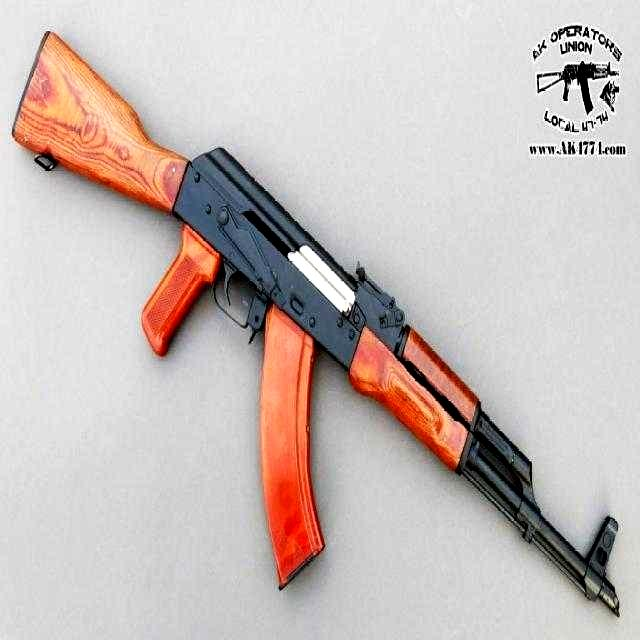ak: (7, 27, 631, 620)
